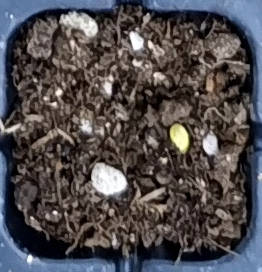pepper seed: (74, 46, 262, 200)
